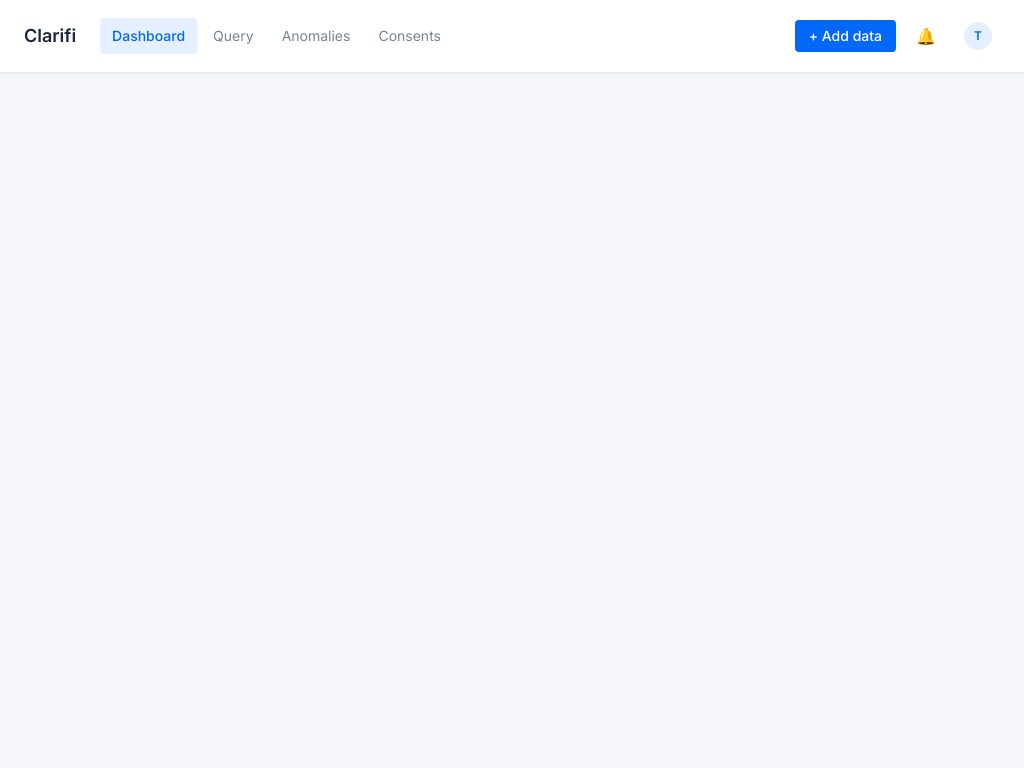
Test: AppShell › opens the upload modal from the '+ Add data' action
Click the button "+ Add data": (845, 36) top-left (795, 20), bottom-right (896, 52)
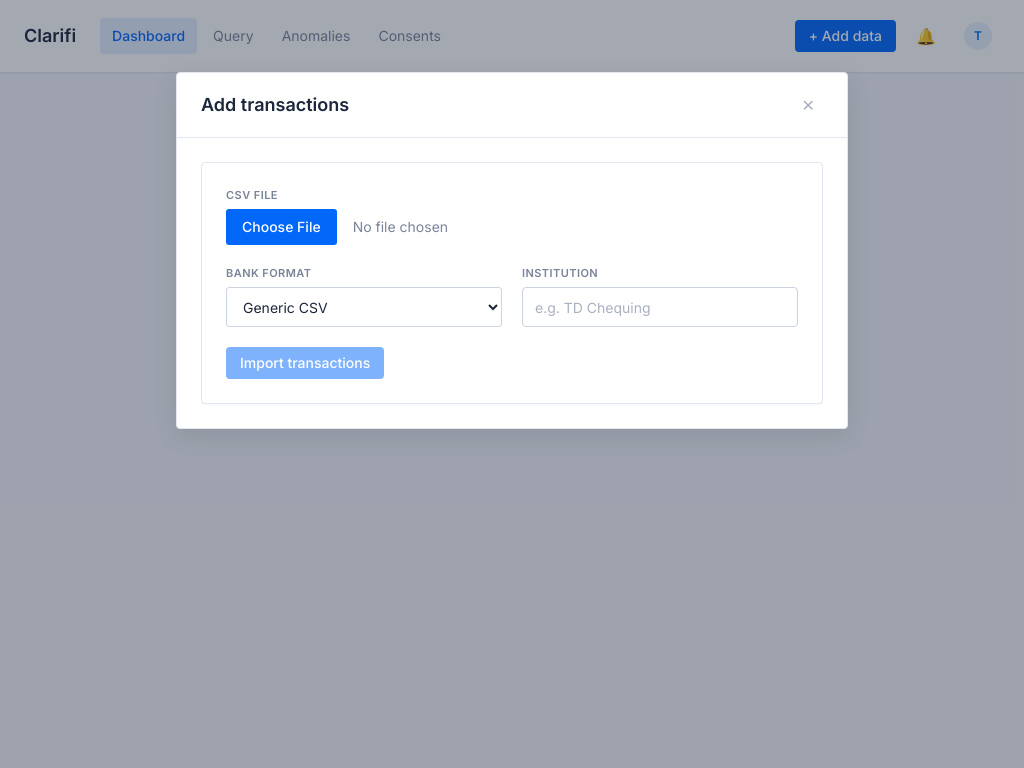
Now the dialog is shown, box top-left (176, 72), bottom-right (848, 429)
Now the file field labelled "CSV file" is shown, box top-left (226, 209), bottom-right (798, 245)
